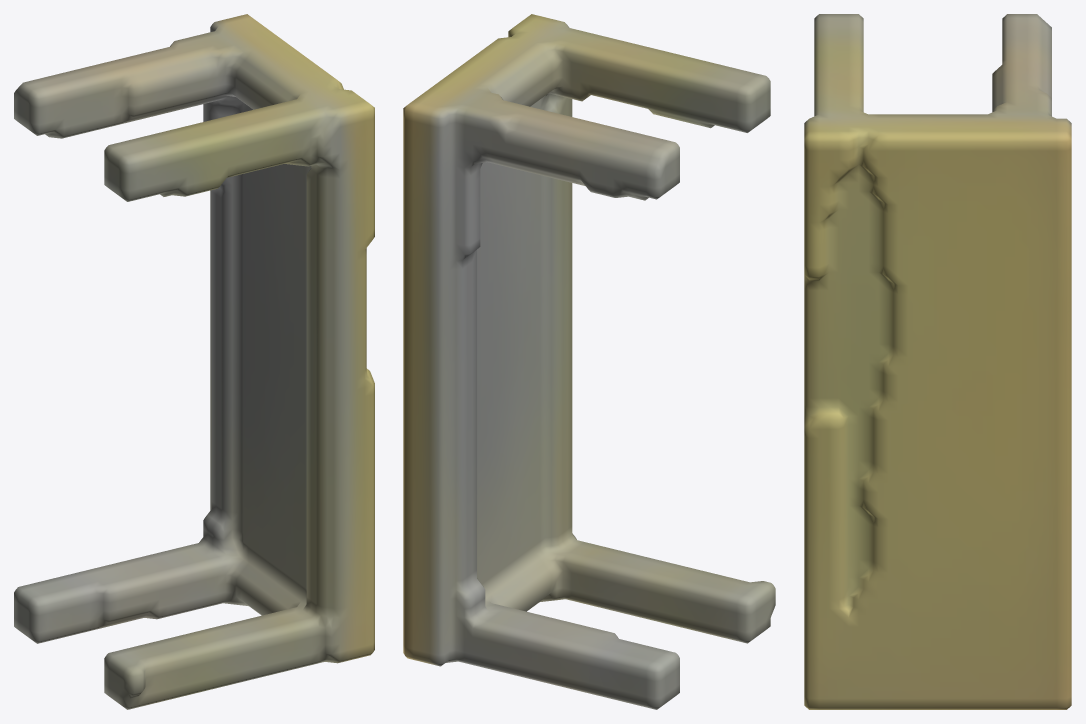
File: a simple long and tall yellowish rectangular table.glb
3 views of the same model, side by side, from view 1: azimuth 30°, elevation 25°; view 2: azimuth 150°, elevation 25°; view 3: azimuth 270°, elevation 25° (orthographic). The views are drawn at different scales.
Parts seen in each view (by area): view 1: a simple long and tall yellowish rectangular table; view 2: a simple long and tall yellowish rectangular table; view 3: a simple long and tall yellowish rectangular table.
Boxes of the visible parts, <box> form: a simple long and tall yellowish rectangular table: <box>14,14,374,709</box>; a simple long and tall yellowish rectangular table: <box>403,14,775,709</box>; a simple long and tall yellowish rectangular table: <box>804,14,1071,709</box>.
Size of the model in its own units: 30 by 64 by 27.
